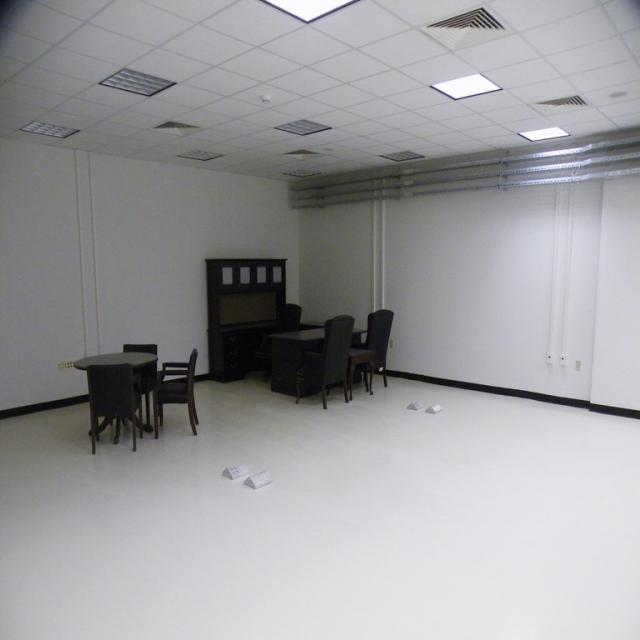chair: (295, 314, 356, 409), (86, 362, 140, 456), (154, 348, 200, 438), (348, 309, 393, 396), (256, 302, 302, 378)
desk: (245, 318, 386, 408)
